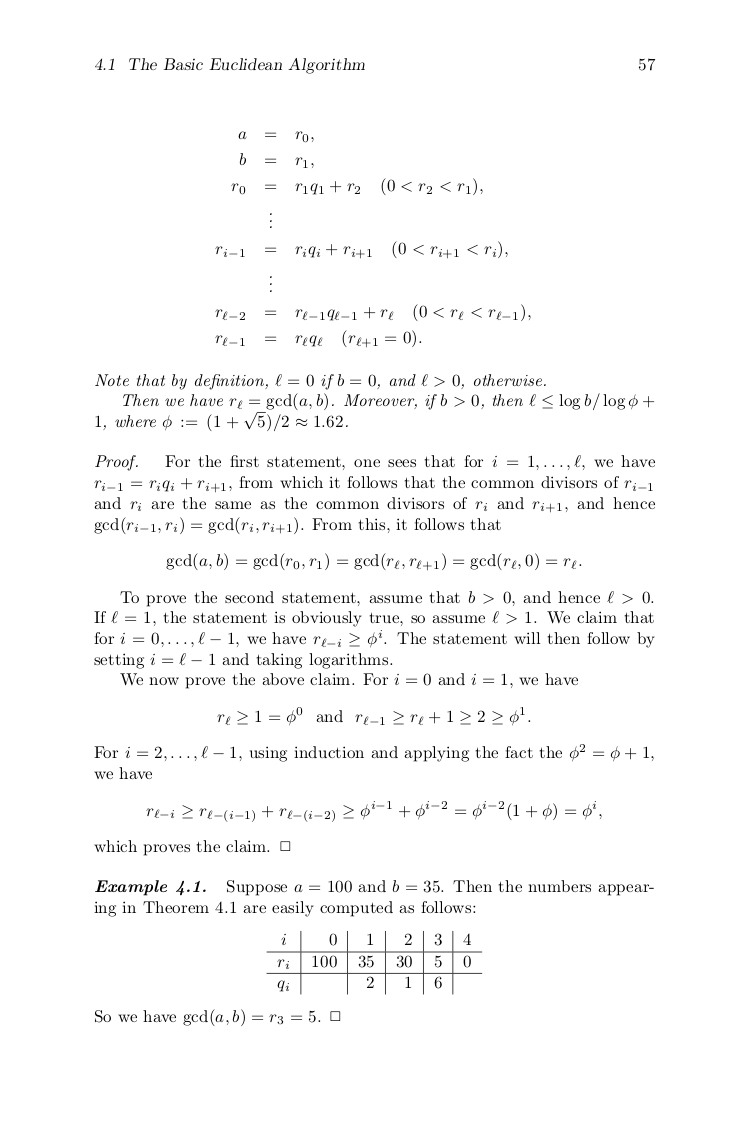Table: (266, 930, 482, 995)
formula: (146, 800, 601, 822), (166, 552, 581, 571), (217, 705, 530, 726), (215, 303, 530, 322), (215, 241, 507, 258), (231, 178, 482, 195), (215, 329, 421, 348), (239, 152, 313, 168), (238, 130, 313, 143)
